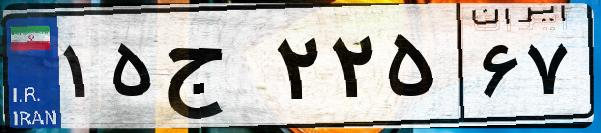1: (57, 26, 110, 100)
2: (270, 28, 330, 110), (330, 28, 385, 110)
5: (385, 28, 445, 110), (110, 28, 158, 98)
6: (475, 38, 525, 113)
7: (525, 38, 570, 115)
ج: (158, 20, 270, 120)
